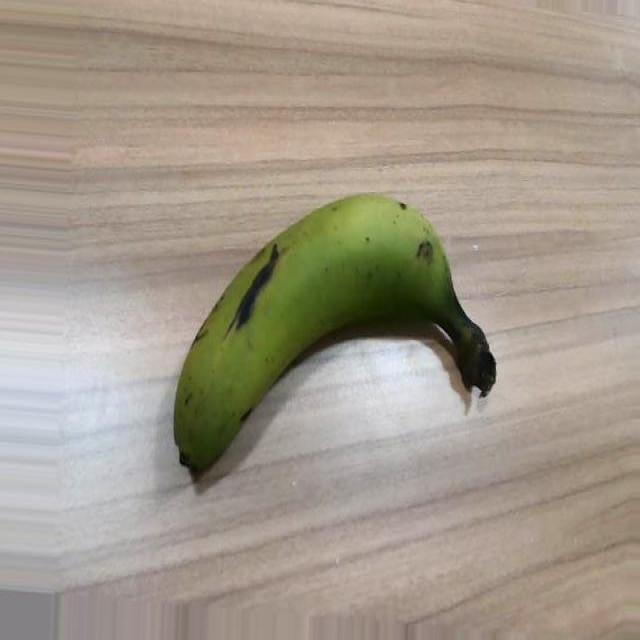Unripe: (171, 188, 496, 482)
